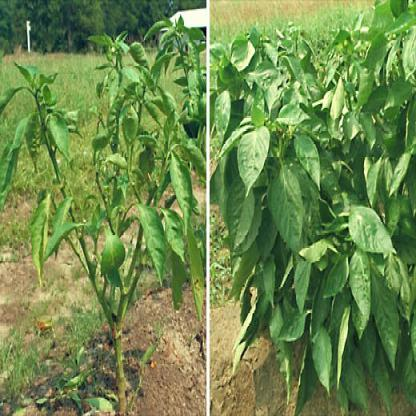Tomato leaf late blight: (357, 247, 400, 368), (263, 154, 306, 250), (348, 203, 398, 260), (138, 202, 171, 288), (180, 214, 206, 322), (236, 121, 271, 200), (27, 187, 51, 294), (170, 140, 196, 233), (293, 131, 324, 199), (312, 318, 334, 396), (292, 244, 314, 318), (351, 248, 371, 325), (102, 229, 127, 290), (280, 302, 312, 349), (46, 109, 72, 161), (364, 152, 385, 204), (119, 70, 144, 88)
